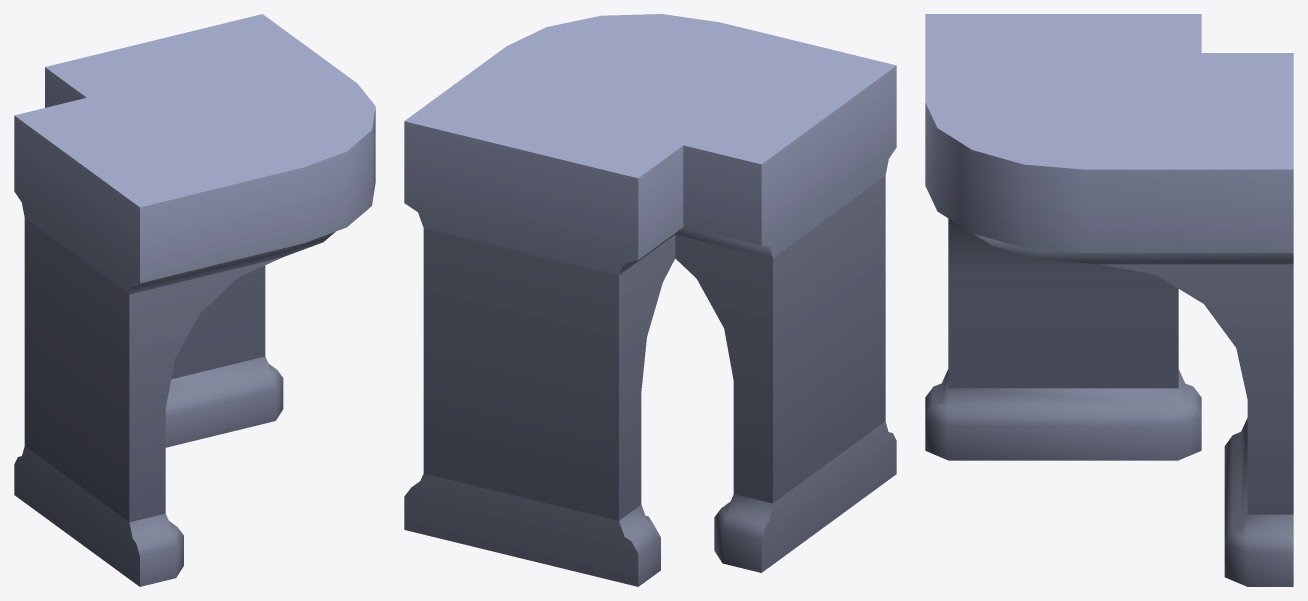
Rendered from wall-corner.glb.
3 views of the same model, side by side, from view 1: azimuth 30°, elevation 25°; view 2: azimuth 150°, elevation 25°; view 3: azimuth 270°, elevation 25° (orthographic). The views are drawn at different scales.
Parts seen in each view (by area): view 1: wall-corner; view 2: wall-corner; view 3: wall-corner.
Boxes of the visible parts, x1,y1,x2,y2 form: wall-corner: (14,14,375,586); wall-corner: (404,14,896,586); wall-corner: (925,14,1293,586).
Bounding box in the file's own units: 0.8 × 1 × 0.8.
Materials: 1 (1 with a texture image).
